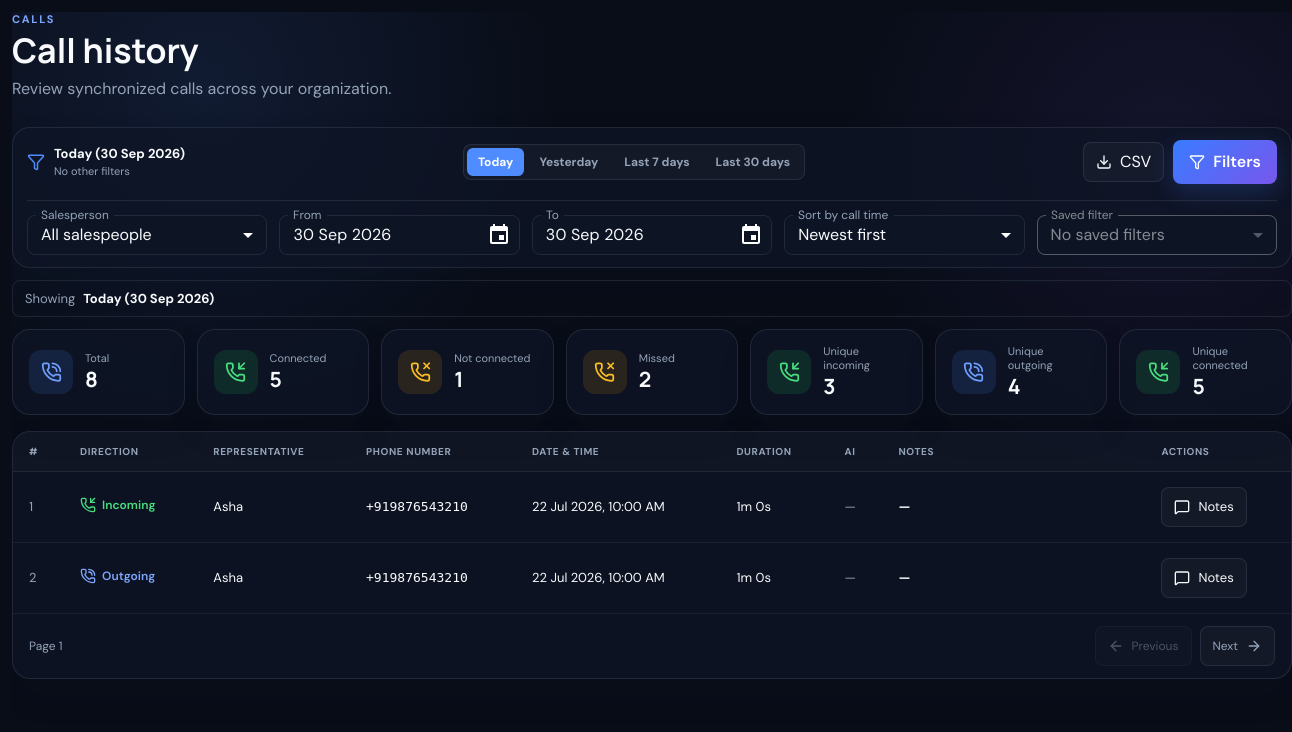
CallHistory › applies a date preset in one click and rolls a stale "today" forward
This screenshot has width=1292, height=732.
Expected: the text "Today (30 Sep 2026)" next to "Showing" is shown, [83,290,214,307]
Click the button "Last 7 days" at (657, 162), box [613,148,700,176]
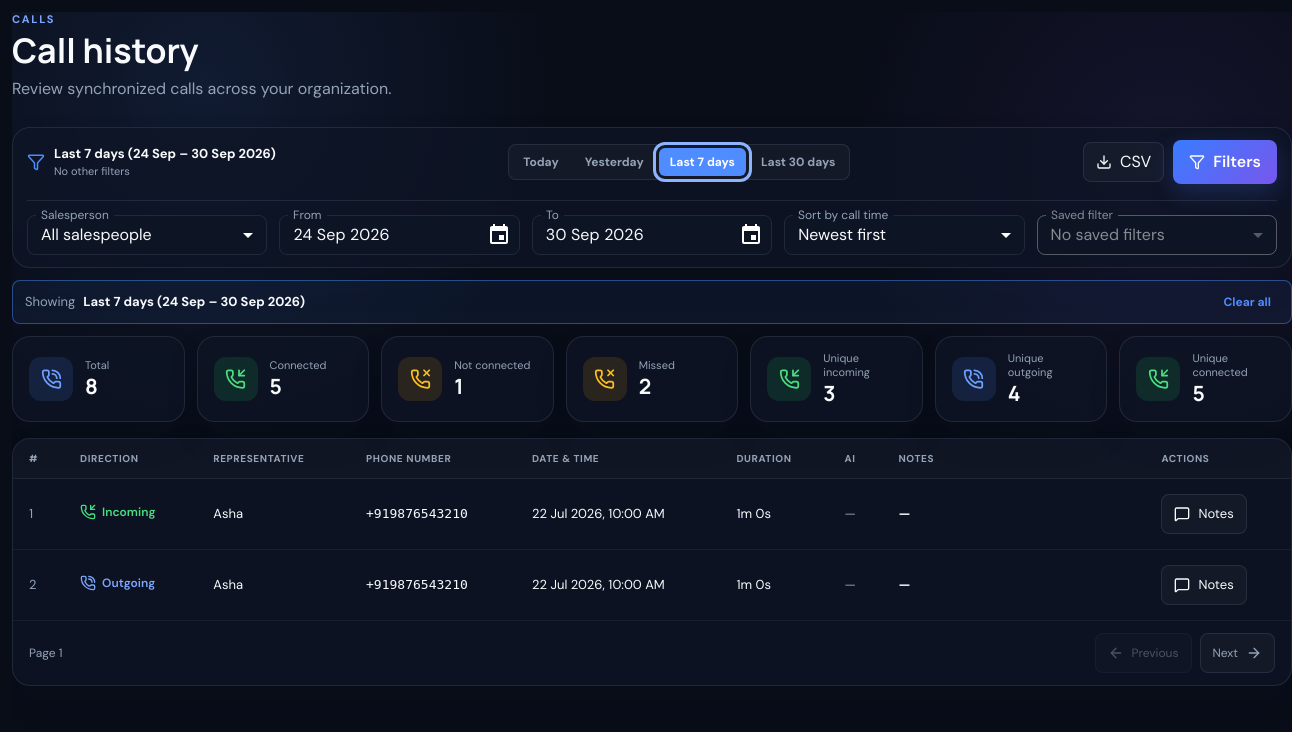
Result: the text "Last 7 days (24 Sep – 30 Sep 2026)" next to "Showing" is shown at [83,293,305,310]
